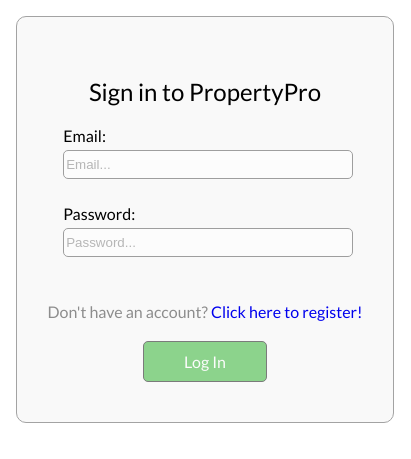
Test case: Login › password validaiton should work correctly
Type "htreq" into the password field with test id "password-input" at {"x": 208, "y": 242}, box top-left (63, 228), bottom-right (353, 257)
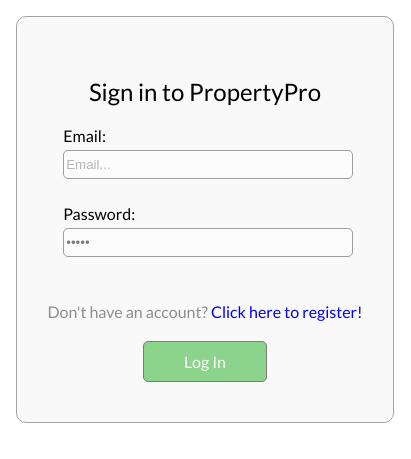
Leave the password field with test id "password-input", box top-left (63, 228), bottom-right (353, 257)
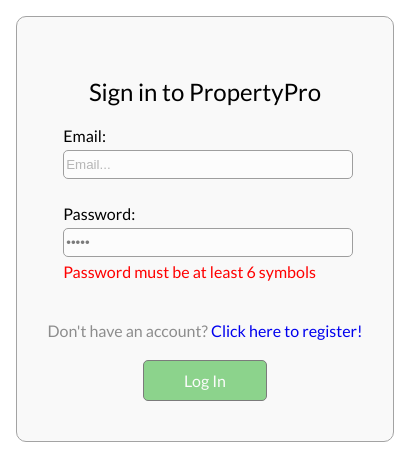
Check: the text "Password must be at least 6 symbols" is shown, box top-left (63, 262), bottom-right (347, 281)
